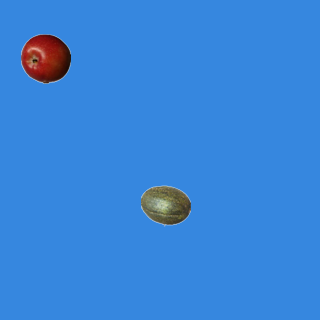Apple Braeburn: (20, 33, 70, 83)
Melon Piel de Sapo: (140, 180, 190, 230)
